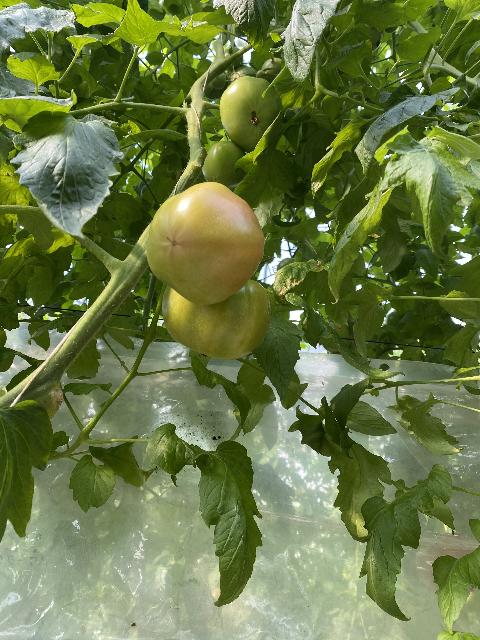b_green: (220, 76, 284, 153), (202, 141, 249, 188)
b_half_ripened: (147, 182, 265, 306), (162, 280, 272, 359)
